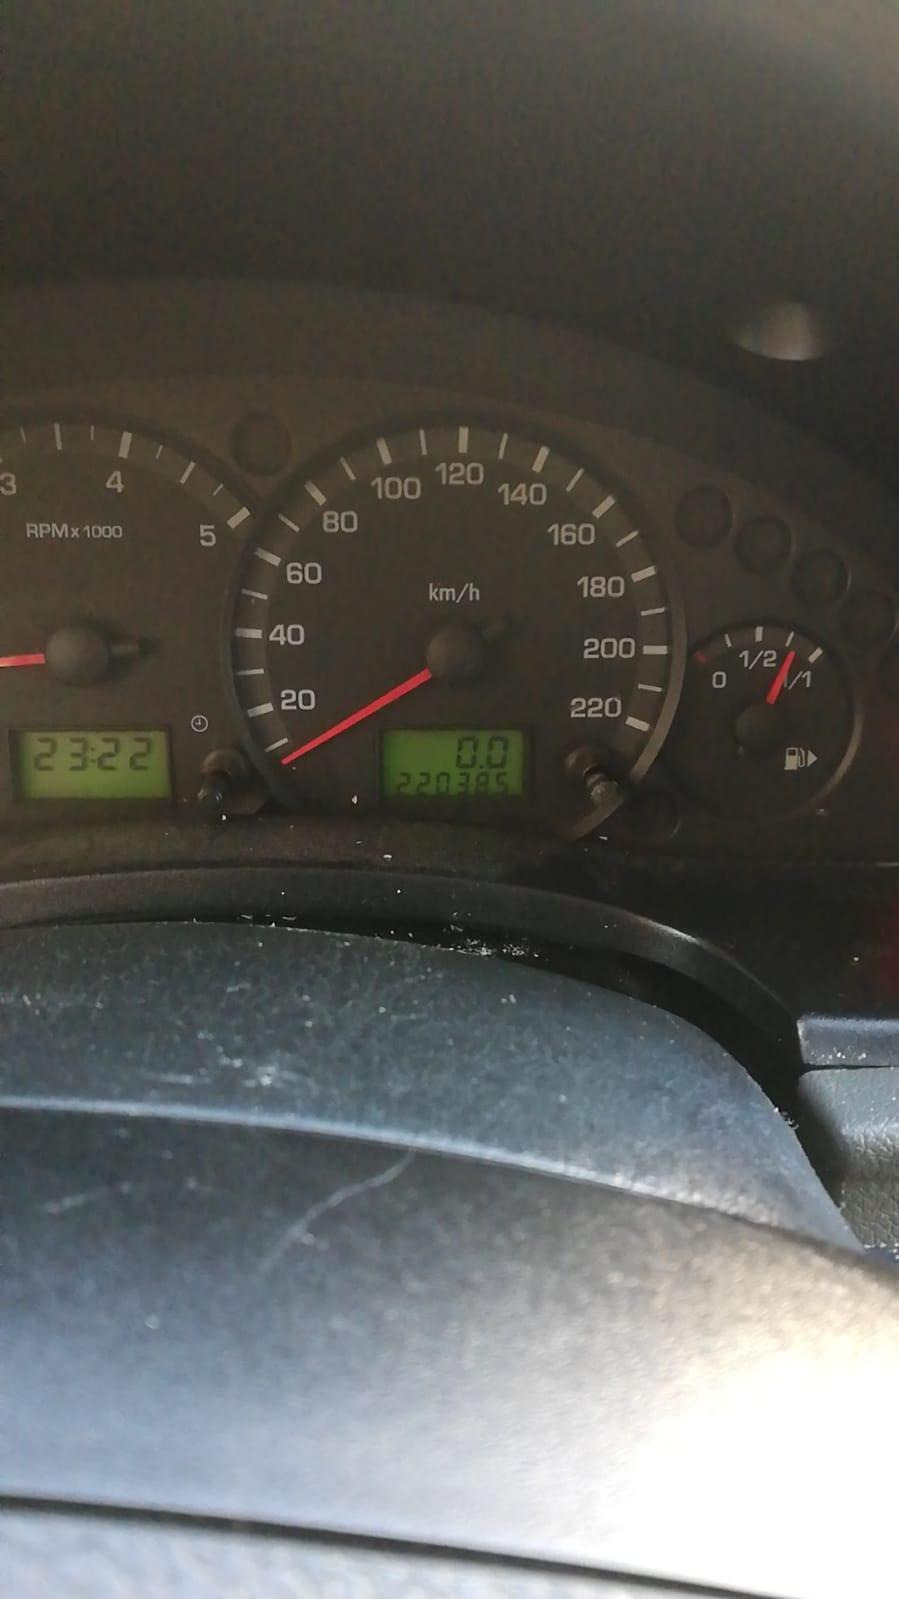0: (486, 735, 508, 769), (456, 735, 477, 768), (435, 771, 450, 794)
2: (416, 771, 431, 795), (396, 771, 411, 795)
3: (456, 771, 470, 795)
5: (494, 771, 508, 795)
8: (474, 771, 488, 794)
odometer: (372, 722, 535, 805)
